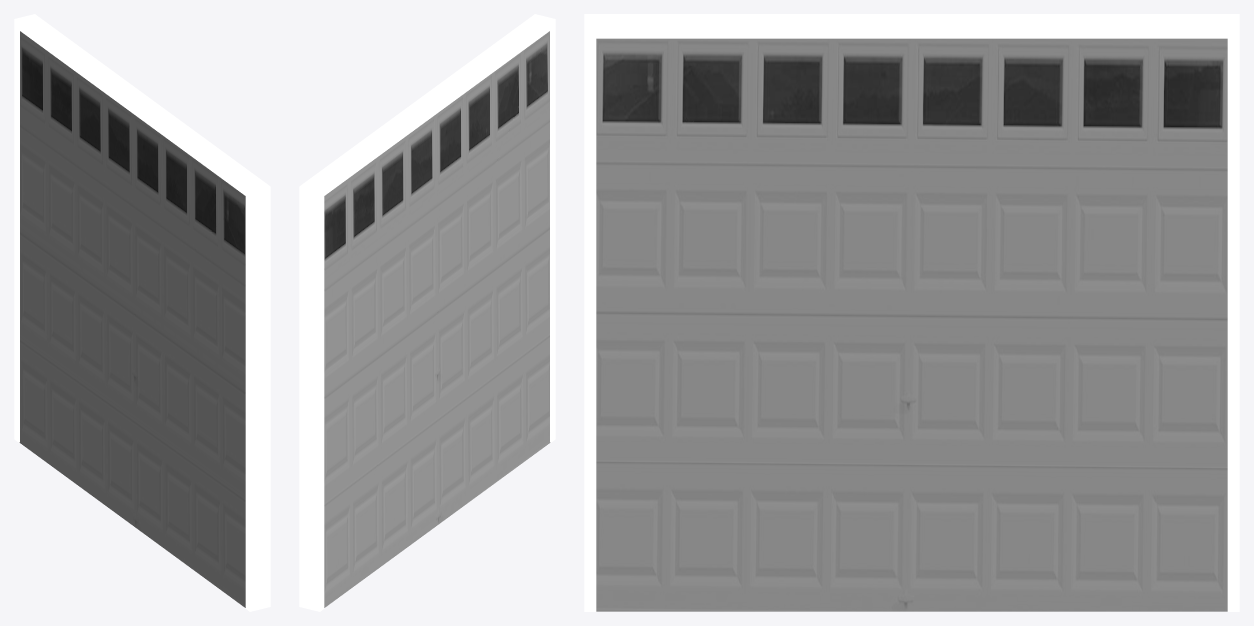
The model's file is sectional_with_window_door_Old.67091801.gltf.
The picture shows the model from 3 angles, left to right: view 1: azimuth 30°, elevation 25°; view 2: azimuth 150°, elevation 25°; view 3: azimuth 270°, elevation 25°; orthographic projection. The views are drawn at different scales.
Parts seen in each view (by area): view 1: Plane, trim; view 2: Plane, trim; view 3: Plane, trim.
Boxes of the visible parts, x1,y1,x2,y2 form: Plane: [19, 31, 245, 607]; trim: [14, 14, 270, 611]; Plane: [324, 31, 550, 607]; trim: [299, 14, 555, 611]; Plane: [596, 38, 1227, 611]; trim: [584, 14, 1239, 611].
Size of the model in its own units: 0.3092 by 6.01 by 6.1.
2 materials, 1 textured.
